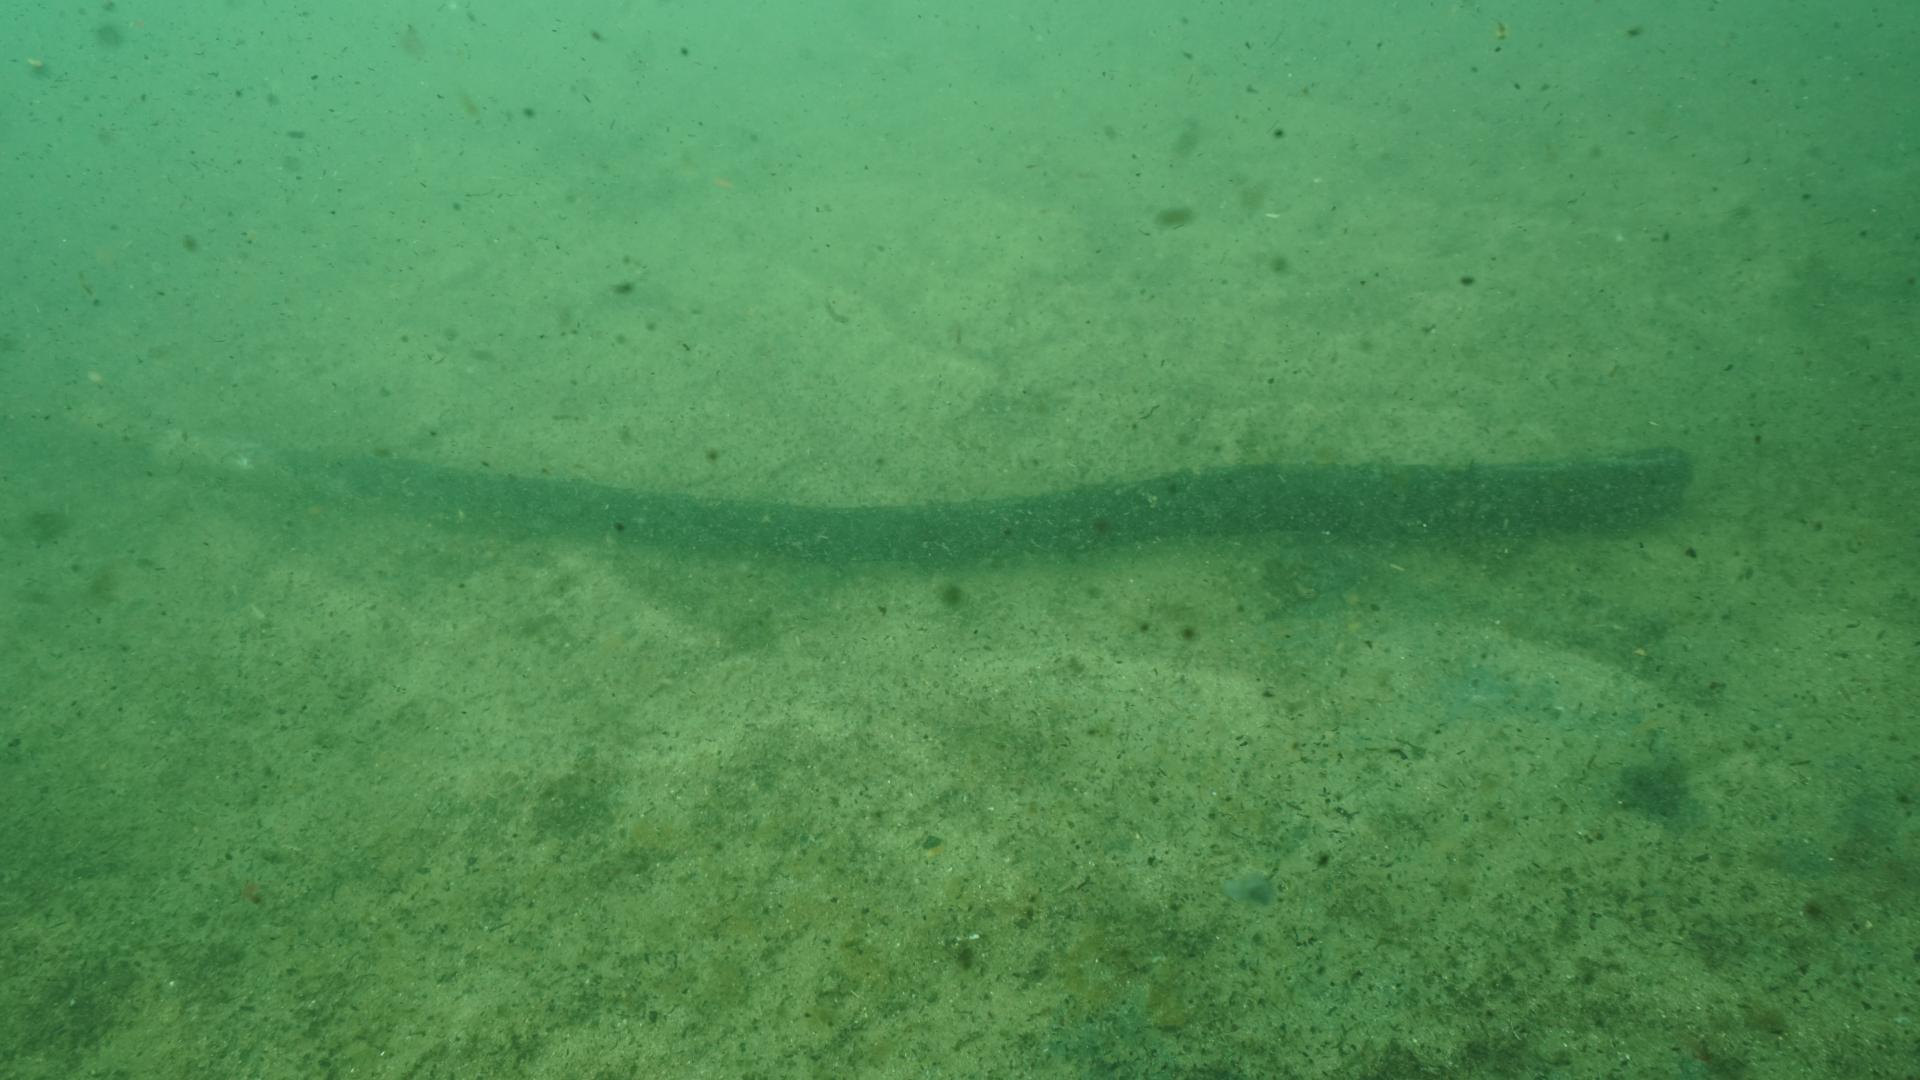wood: (0, 404, 1698, 568)
